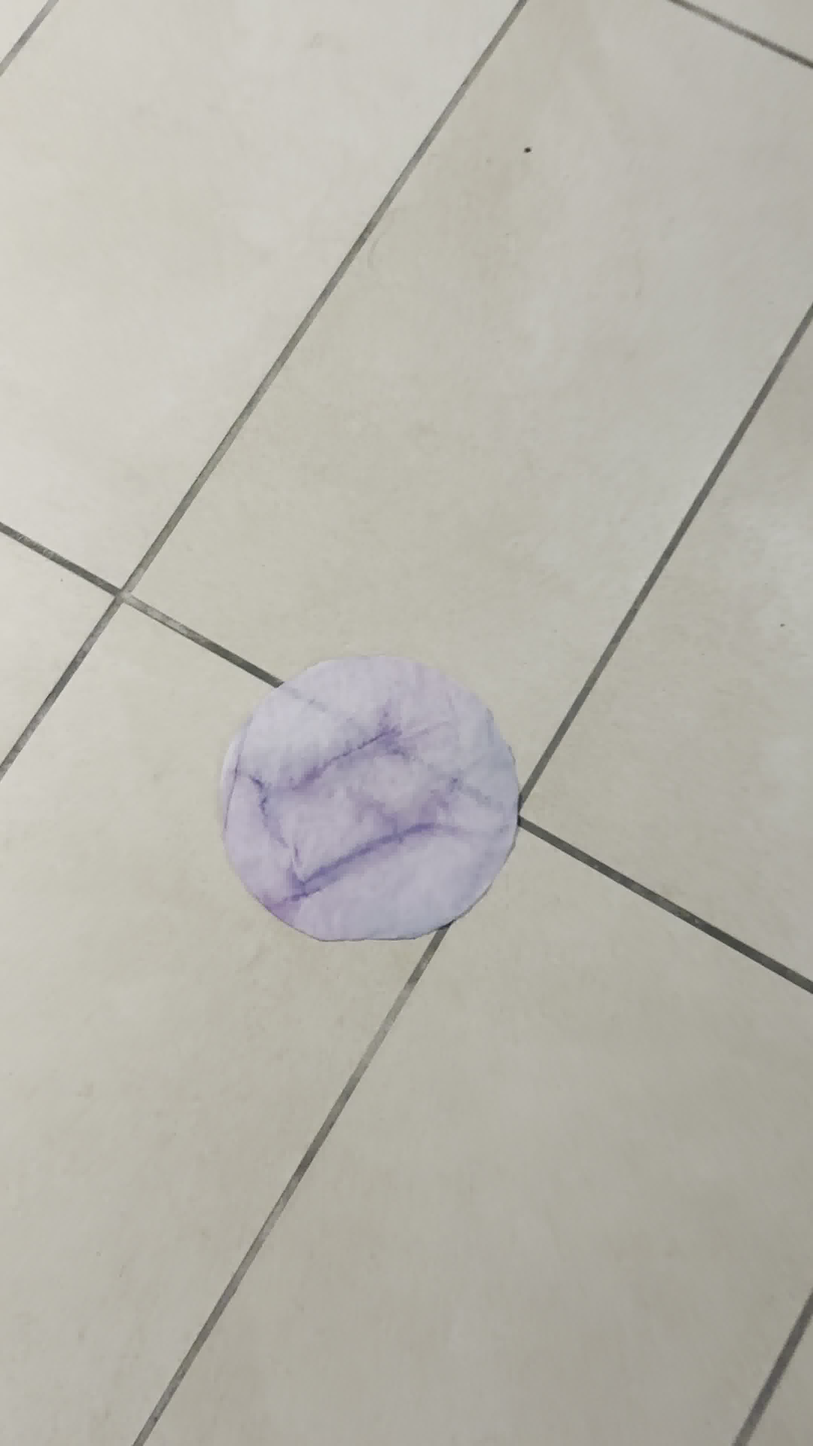Target: (215, 656, 518, 943)
